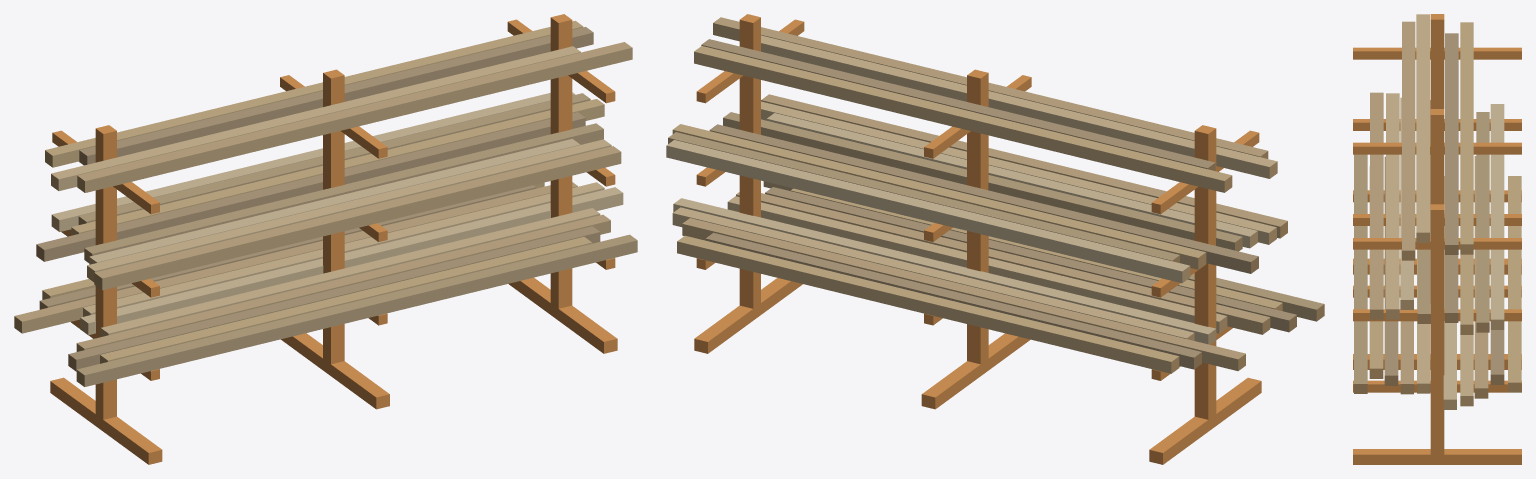
The model's file is timber-rack.glb.
3 renders of one model, left to right at view 1: azimuth 30°, elevation 25°; view 2: azimuth 150°, elevation 25°; view 3: azimuth 270°, elevation 25°, orthographic. The views are drawn at different scales.
Visible parts, largest first — view 1: TimberRack_LumberFace, TimberRack_RackSteel, TimberRack_LumberEnd; view 2: TimberRack_LumberFace, TimberRack_RackSteel, TimberRack_LumberEnd; view 3: TimberRack_LumberFace, TimberRack_RackSteel, TimberRack_LumberEnd.
Boxes of the visible parts, left/top/right/bottom form: TimberRack_LumberFace: left=14, top=20, right=637, bottom=386; TimberRack_RackSteel: left=50, top=14, right=617, bottom=464; TimberRack_LumberEnd: left=14, top=150, right=108, bottom=386; TimberRack_LumberFace: left=666, top=17, right=1323, bottom=373; TimberRack_RackSteel: left=694, top=14, right=1261, bottom=464; TimberRack_LumberEnd: left=1171, top=151, right=1324, bottom=373; TimberRack_LumberFace: left=1354, top=14, right=1521, bottom=399; TimberRack_RackSteel: left=1353, top=14, right=1521, bottom=464; TimberRack_LumberEnd: left=1354, top=232, right=1521, bottom=409.
Size of the model in its own units: 5.19 by 2.5 by 1.5.
